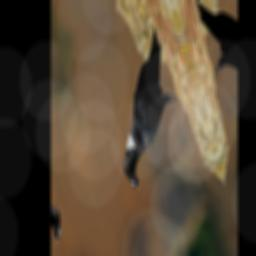Crow: (93, 22, 198, 195)
